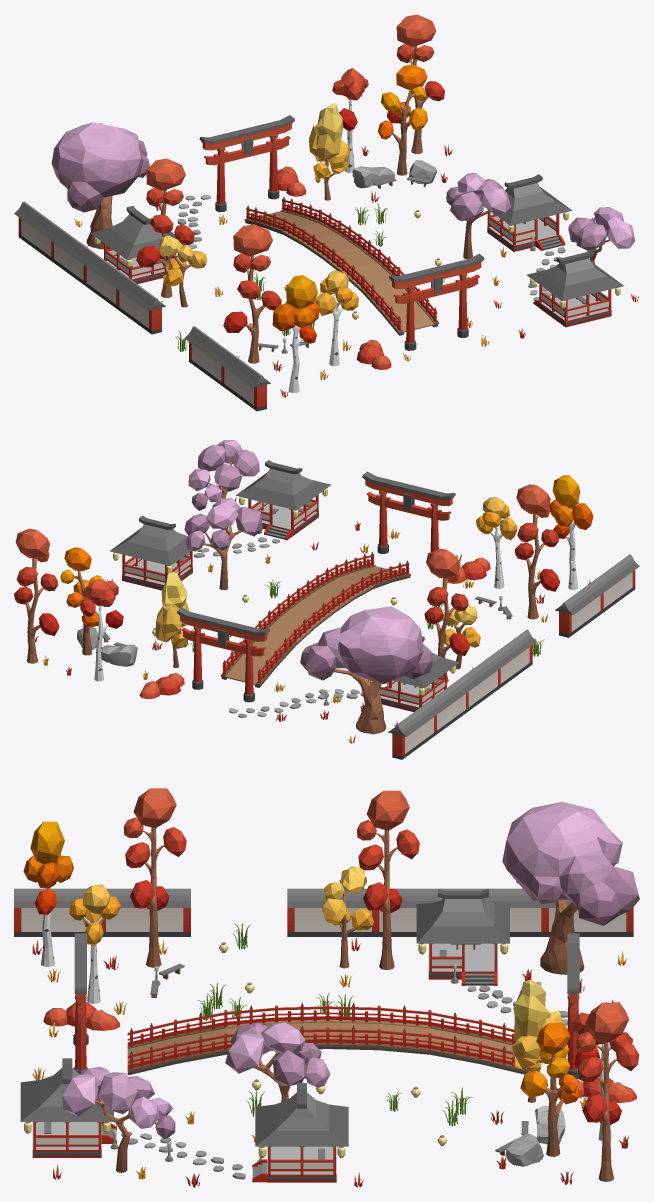
File: sakura_bridge.glb
The picture shows the model from 3 angles, top to bottom: view 1: azimuth 30°, elevation 25°; view 2: azimuth 150°, elevation 25°; view 3: azimuth 270°, elevation 25°; orthographic projection. The views are drawn at different scales.
Parts seen in each view (by area): view 1: japanese bridge 2_92, sakura tree 6_84, japanese gazebo (1)_85, japanese gazebo_72, torii gate 2_42, torii gate 2 (1)_99, autumn tree 6_61, japanese gazebo (2)_123, autumn tree 6_78, autumn birch tree 3_20, sakura tree 2_101, autumn tree 7_118 (+13 smaller); view 2: sakura tree 6_84, japanese bridge 2_92, japanese gazebo (1)_85, japanese gazebo_72, torii gate 2_42, sakura tree 3_59, torii gate 2 (1)_99, sakura tree 2_101, autumn tree 6_61, autumn tree 6_95, autumn tree 6_78, autumn birch tree 3_20 (+13 smaller); view 3: japanese bridge 2_92, sakura tree 6_84, japanese gazebo_72, japanese gazebo (2)_123, japanese gazebo (1)_85, sakura tree 3_59, sakura tree 2_101, autumn tree 6_78, autumn tree 6_95, autumn tree 6_61, autumn tree 7_118, autumn birch tree 3_20 (+14 smaller).
Part boxes in pixels (bbox=[...]): japanese bridge 2_92: bbox=[244, 197, 438, 335]; sakura tree 6_84: bbox=[51, 122, 149, 249]; japanese gazebo (1)_85: bbox=[526, 249, 623, 327]; japanese gazebo_72: bbox=[480, 174, 572, 251]; torii gate 2_42: bbox=[199, 115, 294, 212]; torii gate 2 (1)_99: bbox=[389, 254, 484, 350]; autumn tree 6_61: bbox=[223, 224, 281, 363]; japanese gazebo (2)_123: bbox=[91, 206, 185, 284]; autumn tree 6_78: bbox=[136, 158, 194, 297]; autumn birch tree 3_20: bbox=[272, 275, 319, 392]; sakura tree 2_101: bbox=[446, 172, 510, 259]; autumn tree 7_118: bbox=[377, 64, 427, 175]; sakura tree 6_84: bbox=[300, 606, 432, 734]; japanese bridge 2_92: bbox=[221, 552, 410, 687]; japanese gazebo (1)_85: bbox=[236, 460, 331, 540]; japanese gazebo_72: bbox=[110, 515, 201, 590]; torii gate 2_42: bbox=[177, 607, 269, 702]; sakura tree 3_59: bbox=[188, 440, 259, 529]; torii gate 2 (1)_99: bbox=[362, 471, 455, 553]; sakura tree 2_101: bbox=[184, 498, 262, 590]; autumn tree 6_61: bbox=[514, 484, 559, 619]; autumn tree 6_95: bbox=[14, 528, 59, 663]; autumn tree 6_78: bbox=[424, 548, 469, 682]; autumn birch tree 3_20: bbox=[549, 475, 593, 589]; japanese bridge 2_92: bbox=[127, 1002, 527, 1075]; sakura tree 6_84: bbox=[502, 802, 639, 974]; japanese gazebo_72: bbox=[252, 1083, 348, 1182]; japanese gazebo (2)_123: bbox=[416, 889, 509, 985]; japanese gazebo (1)_85: bbox=[20, 1058, 116, 1157]; sakura tree 3_59: bbox=[62, 1066, 175, 1172]; sakura tree 2_101: bbox=[225, 1022, 330, 1101]; autumn tree 6_78: bbox=[357, 790, 419, 969]; autumn tree 6_95: bbox=[576, 1002, 639, 1181]; autumn tree 6_61: bbox=[123, 788, 186, 967]; autumn tree 7_118: bbox=[520, 1022, 579, 1156]; autumn birch tree 3_20: bbox=[23, 821, 73, 966].
Bounding box in the file's own units: 20.34 × 6.58 × 20.43.
Materials: 1 (1 with a texture image).
